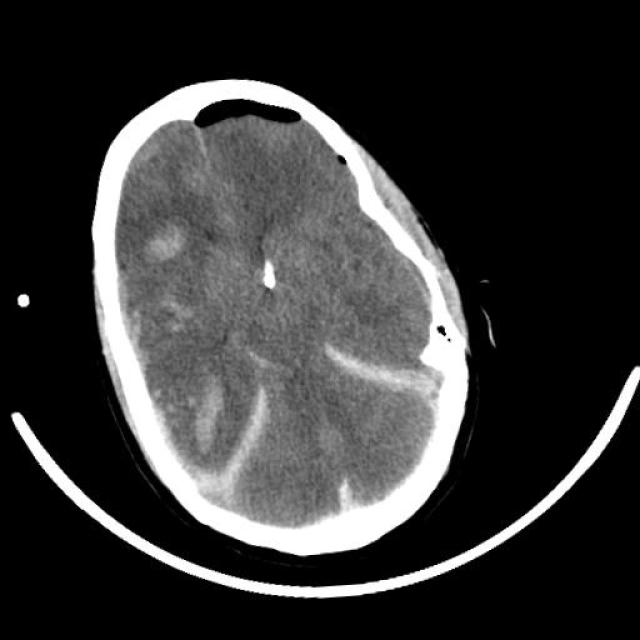Intraparenchymal: (82, 265, 164, 393), (135, 192, 217, 292), (170, 362, 250, 459), (148, 287, 212, 337)
Subdural: (140, 379, 286, 527), (312, 322, 478, 433)
